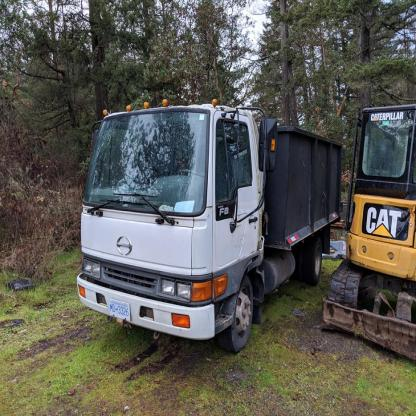dump_truck: (64, 87, 341, 346)
